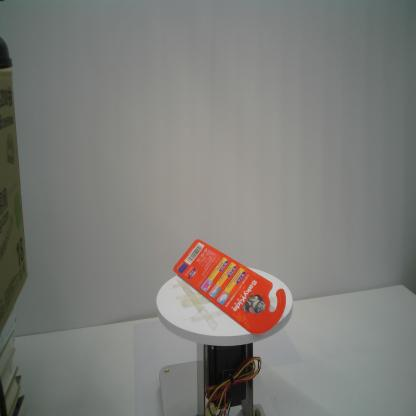Personal Hygiene: (172, 239, 287, 336)
